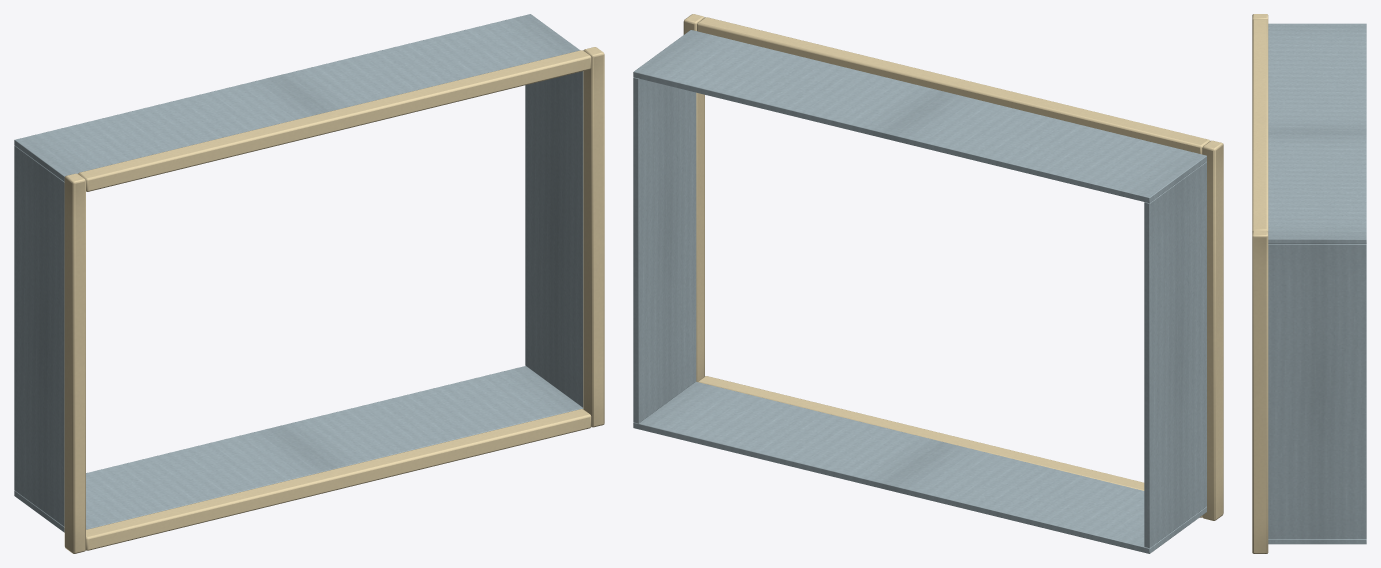
Rendered from 29-front-open-long-window-0.fbx.
3 renders of one model, left to right at view 1: azimuth 30°, elevation 25°; view 2: azimuth 150°, elevation 25°; view 3: azimuth 270°, elevation 25°, orthographic. The views are drawn at different scales.
Parts seen in each view (by area): view 1: front-open-long-window-0; view 2: front-open-long-window-0; view 3: front-open-long-window-0.
Part boxes in pixels (<box>): front-open-long-window-0: <box>14,14,604,553</box>; front-open-long-window-0: <box>633,14,1223,553</box>; front-open-long-window-0: <box>1252,14,1366,553</box>.
Size of the model in its own units: 4840 by 3240 by 1055.
1 material, 1 textured.
